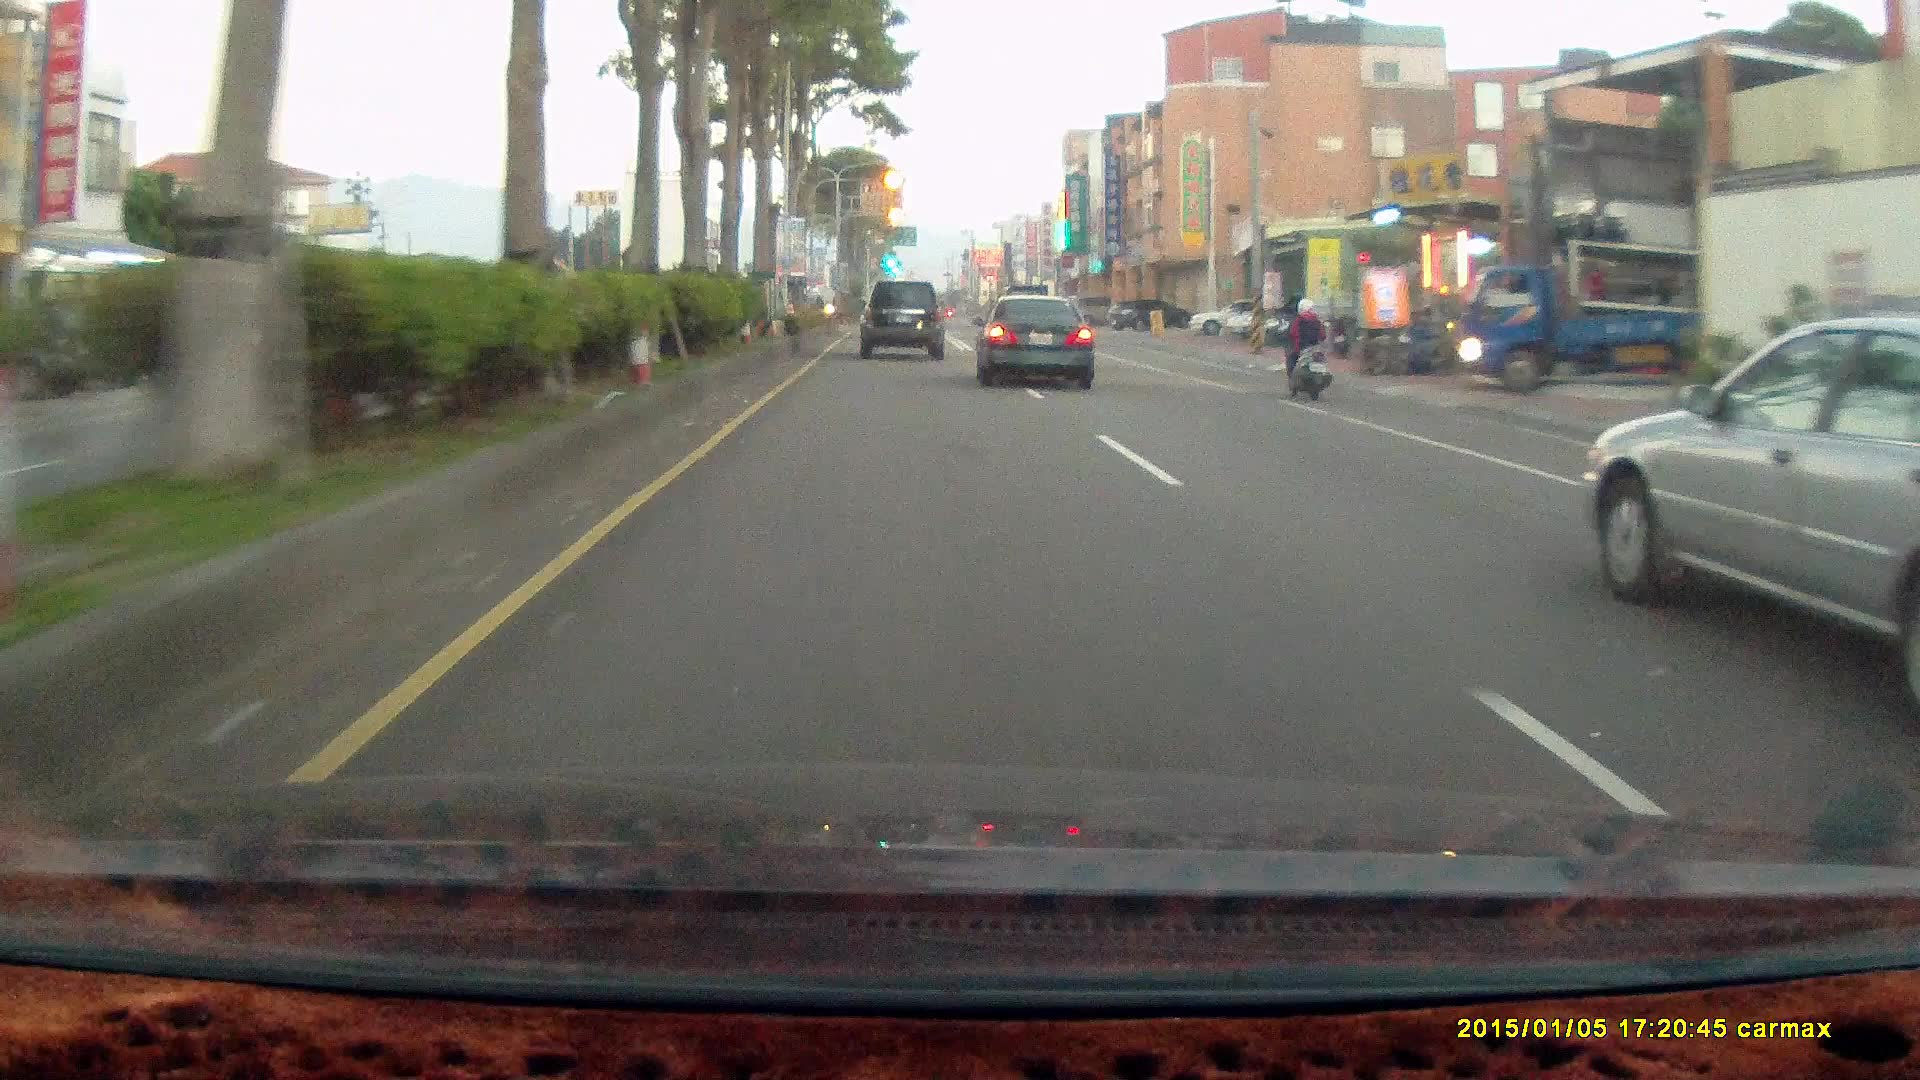rider: (1268, 286, 1347, 415), (1277, 298, 1335, 402)
vehicle: (1585, 310, 1920, 728), (1584, 312, 1919, 722), (1461, 242, 1705, 391), (1461, 265, 1744, 391), (968, 294, 1095, 390), (980, 296, 1102, 391), (854, 279, 951, 362), (857, 278, 945, 360), (1269, 295, 1368, 346), (1190, 299, 1283, 336), (1109, 300, 1190, 333), (1069, 294, 1131, 329)
